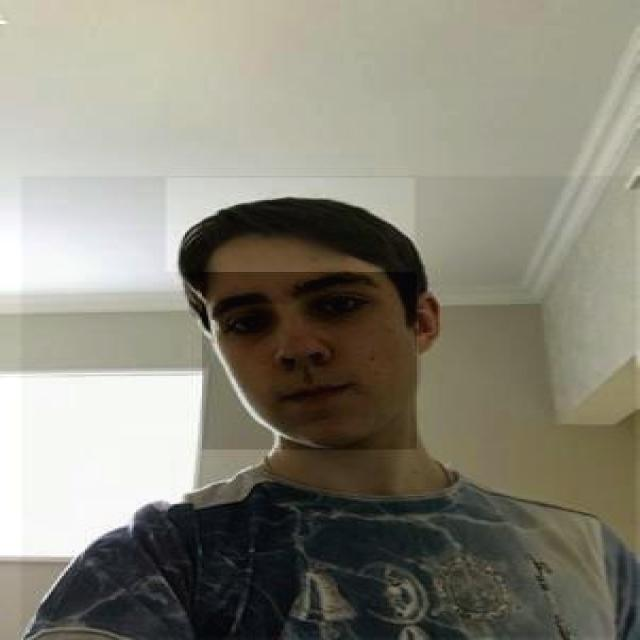face_nomask: (202, 272, 417, 450)
head_nohelmet: (166, 178, 414, 272)
person: (21, 176, 638, 638)
